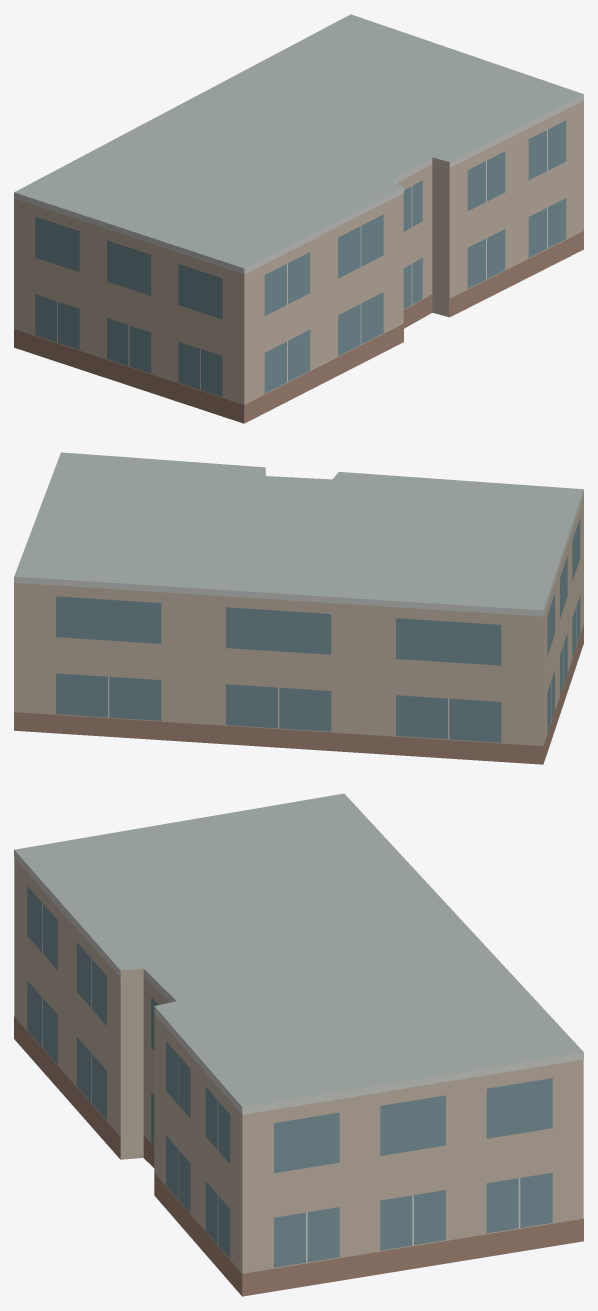
The model's file is survey-upis-32499765.glb.
3 views of the same model, one above another, from view 1: azimuth 30°, elevation 25°; view 2: azimuth 150°, elevation 25°; view 3: azimuth 270°, elevation 25° (orthographic). The views are drawn at different scales.
Visible parts, largest first — view 1: survey-upis-32499765.tmp; view 2: survey-upis-32499765.tmp; view 3: survey-upis-32499765.tmp.
Part boxes in pixels (bbox=[...]): survey-upis-32499765.tmp: bbox=[14, 14, 583, 423]; survey-upis-32499765.tmp: bbox=[14, 452, 583, 764]; survey-upis-32499765.tmp: bbox=[14, 793, 583, 1296].
Size of the model in its own units: 21.72 by 6.1 by 16.66.
